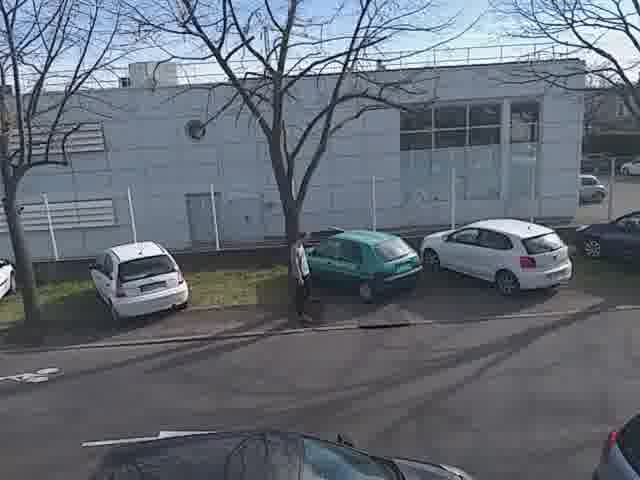persona: (281, 224, 316, 329)
